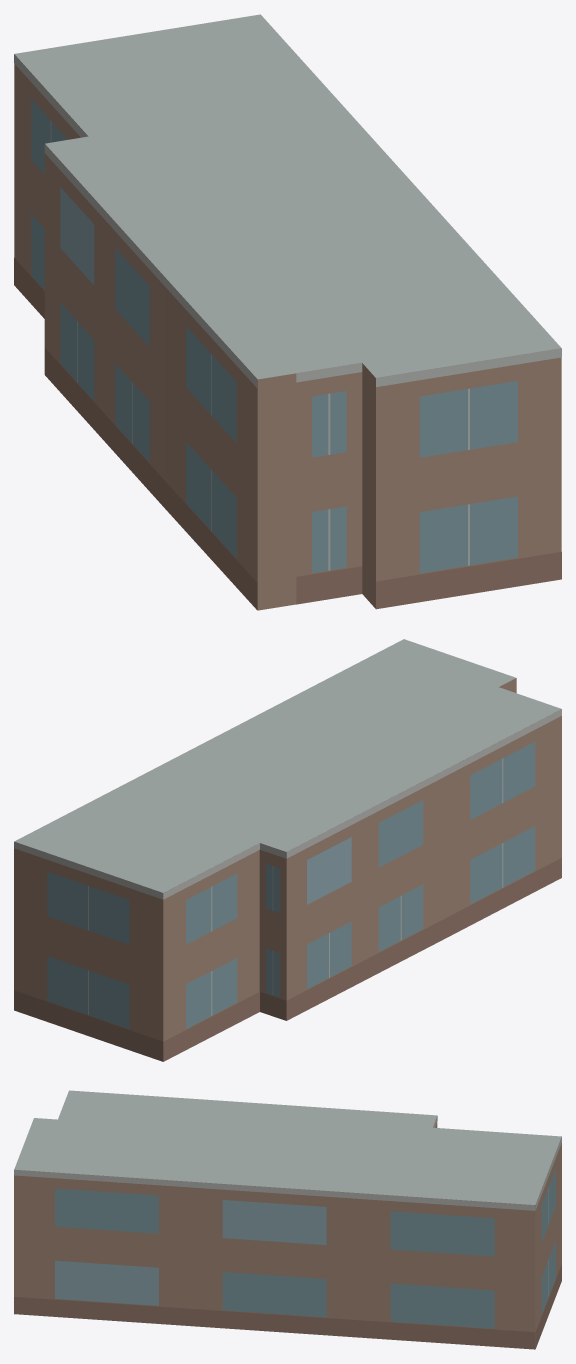
The model's file is survey-upis-32770700.glb.
3 renders of one model, top to bottom at view 1: azimuth 30°, elevation 25°; view 2: azimuth 150°, elevation 25°; view 3: azimuth 270°, elevation 25°, orthographic. The views are drawn at different scales.
Parts seen in each view (by area): view 1: survey-upis-32770700.tmp; view 2: survey-upis-32770700.tmp; view 3: survey-upis-32770700.tmp.
Part boxes in pixels (left/top/right/bottom): survey-upis-32770700.tmp: left=14, top=14, right=561, bottom=610; survey-upis-32770700.tmp: left=14, top=639, right=561, bottom=1061; survey-upis-32770700.tmp: left=14, top=1090, right=561, bottom=1349.
Size of the model in its own units: 10.4 by 6.1 by 20.98.
